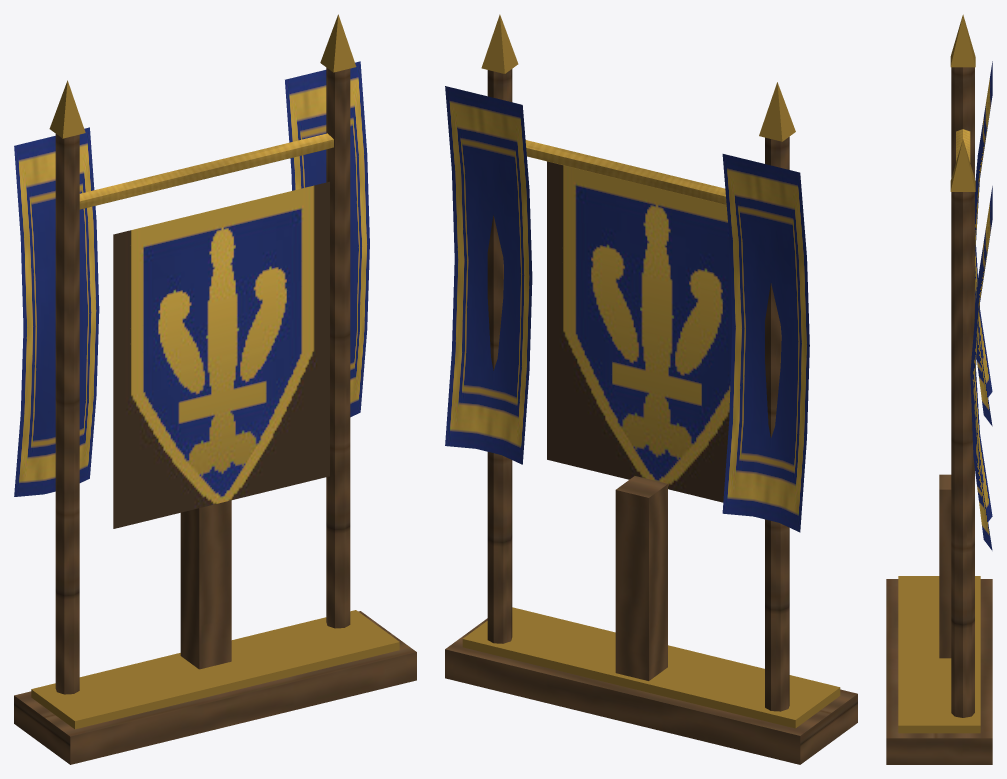
The model's file is prop_vaandel_blue.glb.
3 renders of one model, left to right at view 1: azimuth 30°, elevation 25°; view 2: azimuth 150°, elevation 25°; view 3: azimuth 270°, elevation 25°, orthographic. The views are drawn at different scales.
Visible parts, largest first — view 1: prop_vaandel_blue; view 2: prop_vaandel_blue; view 3: prop_vaandel_blue.
Boxes of the visible parts, x1,y1,x2,y2 form: prop_vaandel_blue: (14,14,416,764); prop_vaandel_blue: (445,14,857,764); prop_vaandel_blue: (886,14,992,764).
Size of the model in its own units: 0.64 by 1.14 by 0.18.
1 material, 1 textured.
